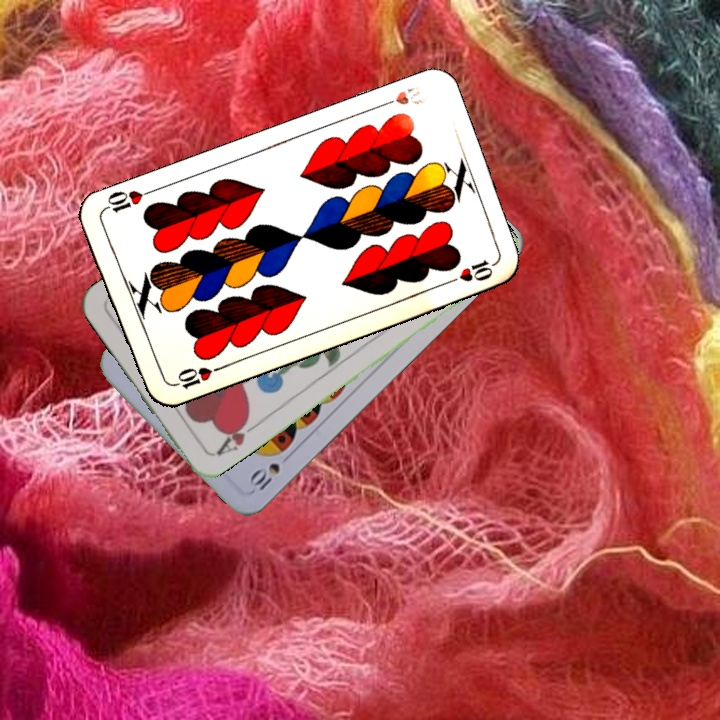H10: (167, 362, 225, 392), (374, 81, 431, 111)
HA: (212, 411, 261, 459)
S10: (245, 449, 295, 494)
